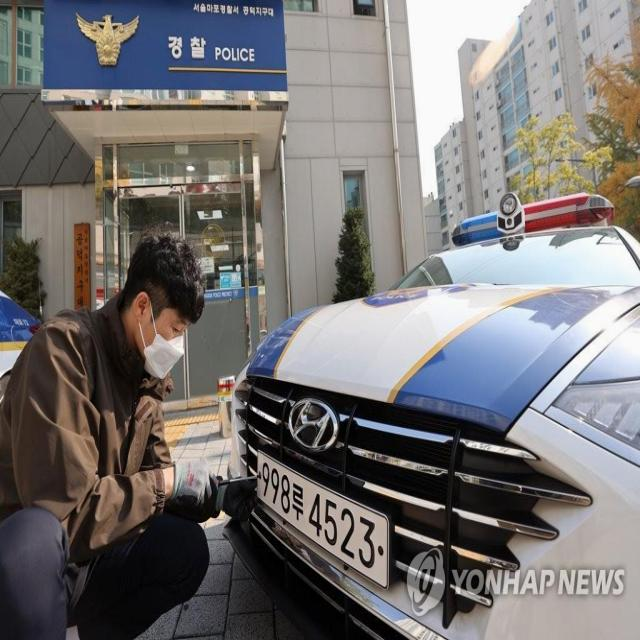car: (229, 157, 640, 640)
illegal_plate: (254, 456, 390, 587)
